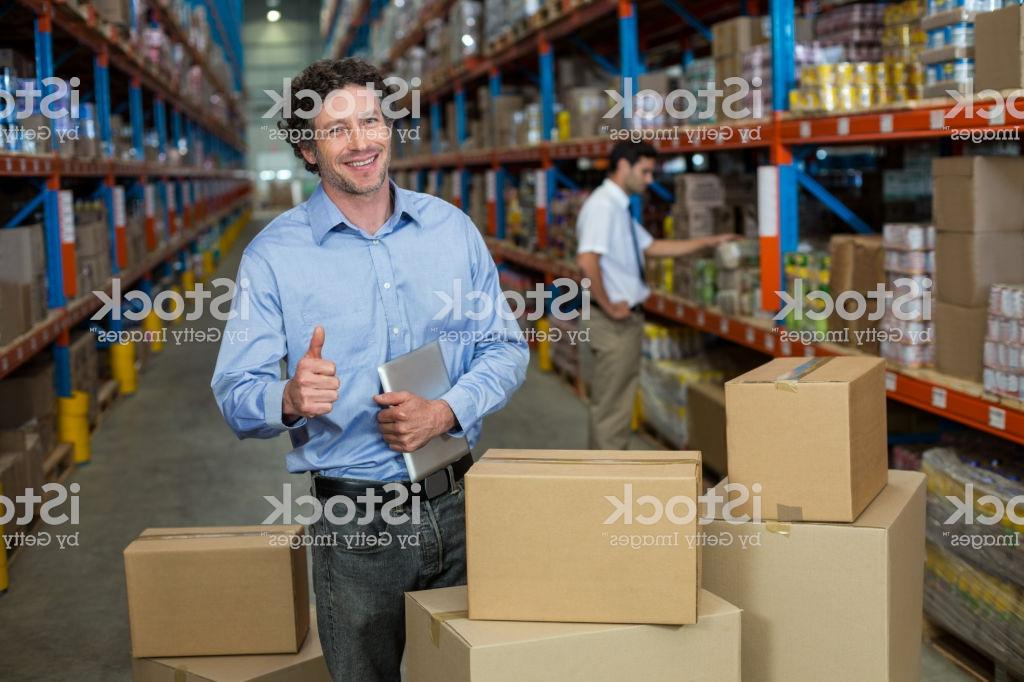thumbsup: (292, 325, 344, 423)
